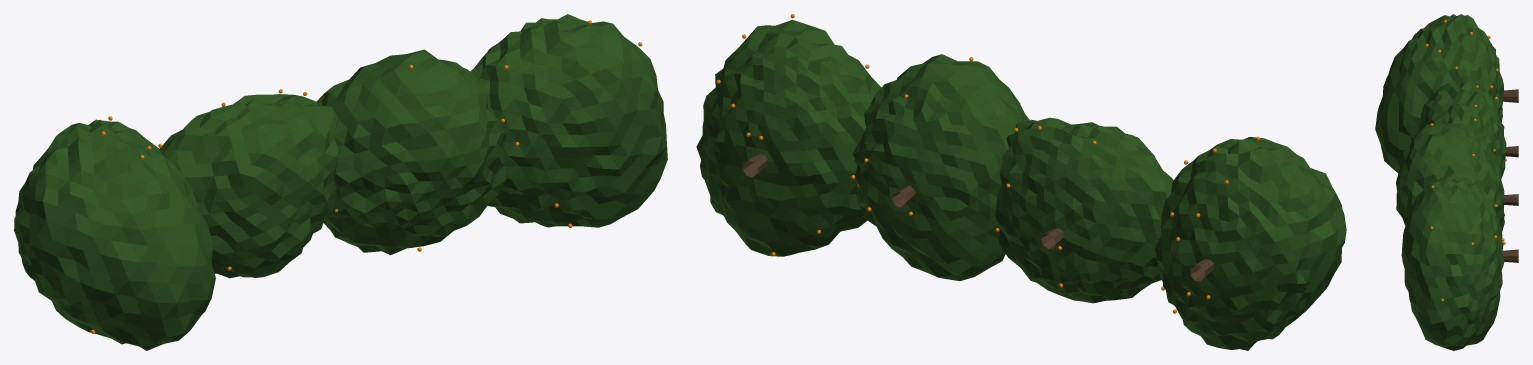
The model's file is citrus_run4_f_fruit.obj.
The picture shows the model from 3 angles, left to right: view 1: azimuth 30°, elevation 25°; view 2: azimuth 150°, elevation 25°; view 3: azimuth 270°, elevation 25°; orthographic projection. The views are drawn at different scales.
Visible parts, largest first — view 1: canopy; view 2: canopy, trunk, fruit; view 3: canopy, trunk, fruit.
Boxes of the visible parts, x1,y1,x2,y2 form: canopy: [14, 14, 667, 350]; canopy: [696, 20, 1346, 350]; trunk: [743, 154, 1213, 281]; fruit: [716, 14, 1260, 313]; canopy: [1375, 14, 1506, 350]; trunk: [1502, 89, 1518, 262]; fruit: [1425, 20, 1506, 301].
Size of the model in its own units: 12.76 by 4.3 by 3.49.
